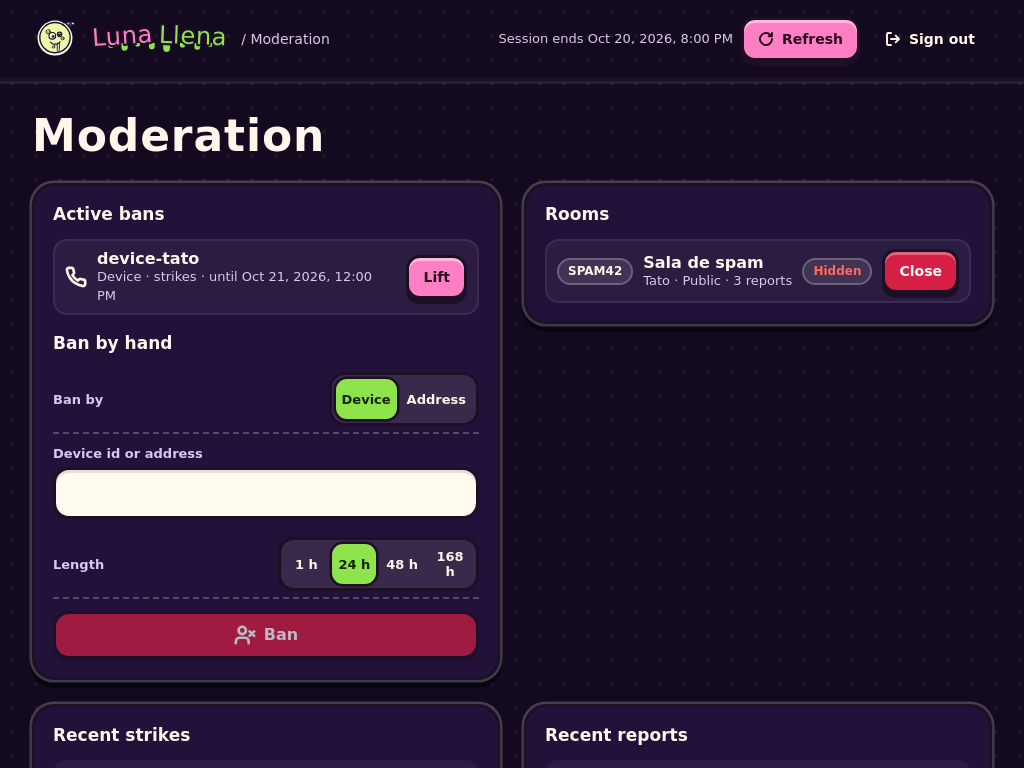
AdminView › signs out and drops the overview
What coordinates should you click on to do the following:
click the button "Sign out"
I would click on:
 (930, 39)
Its box is 868,17 -> 992,61.
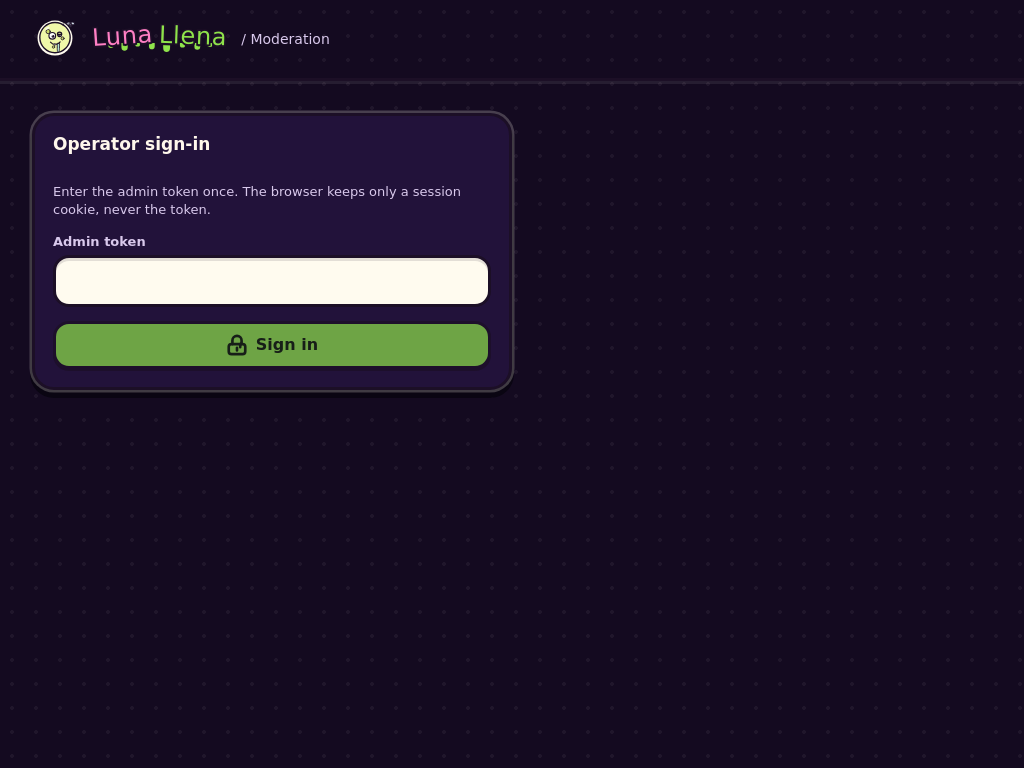
Result: the text "Operator sign-in" is shown at 53,134 -> 210,155
